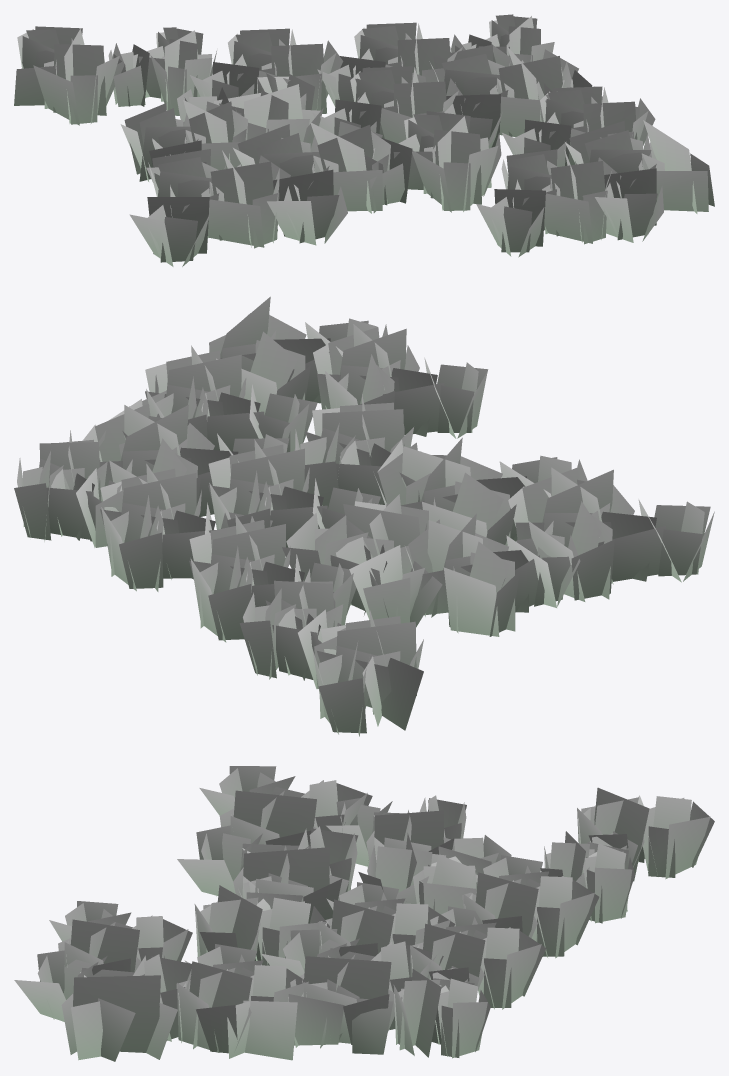
The model's file is Area_13_3.fbx.
3 views of the same model, one above another, from view 1: azimuth 30°, elevation 25°; view 2: azimuth 150°, elevation 25°; view 3: azimuth 270°, elevation 25° (orthographic). The views are drawn at different scales.
Parts seen in each view (by area): view 1: Area_13_3; view 2: Area_13_3; view 3: Area_13_3.
Part boxes in pixels (x1,y1,x2,y2): Area_13_3: (14,14,714,266); Area_13_3: (14,296,714,736); Area_13_3: (14,766,714,1061).
Size of the model in its own units: 1818 by 238 by 2143.
